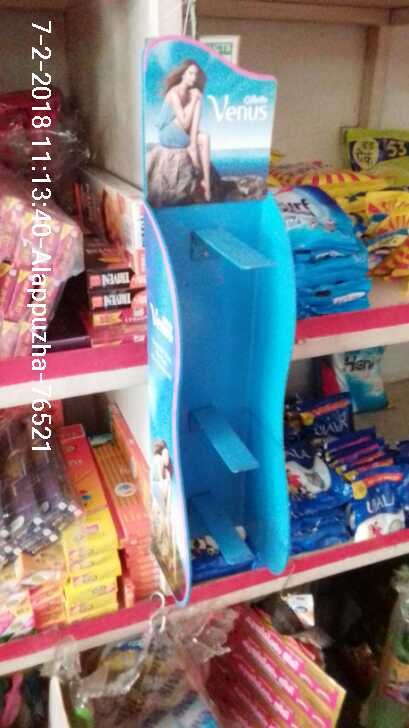reject: (182, 299, 244, 346)
